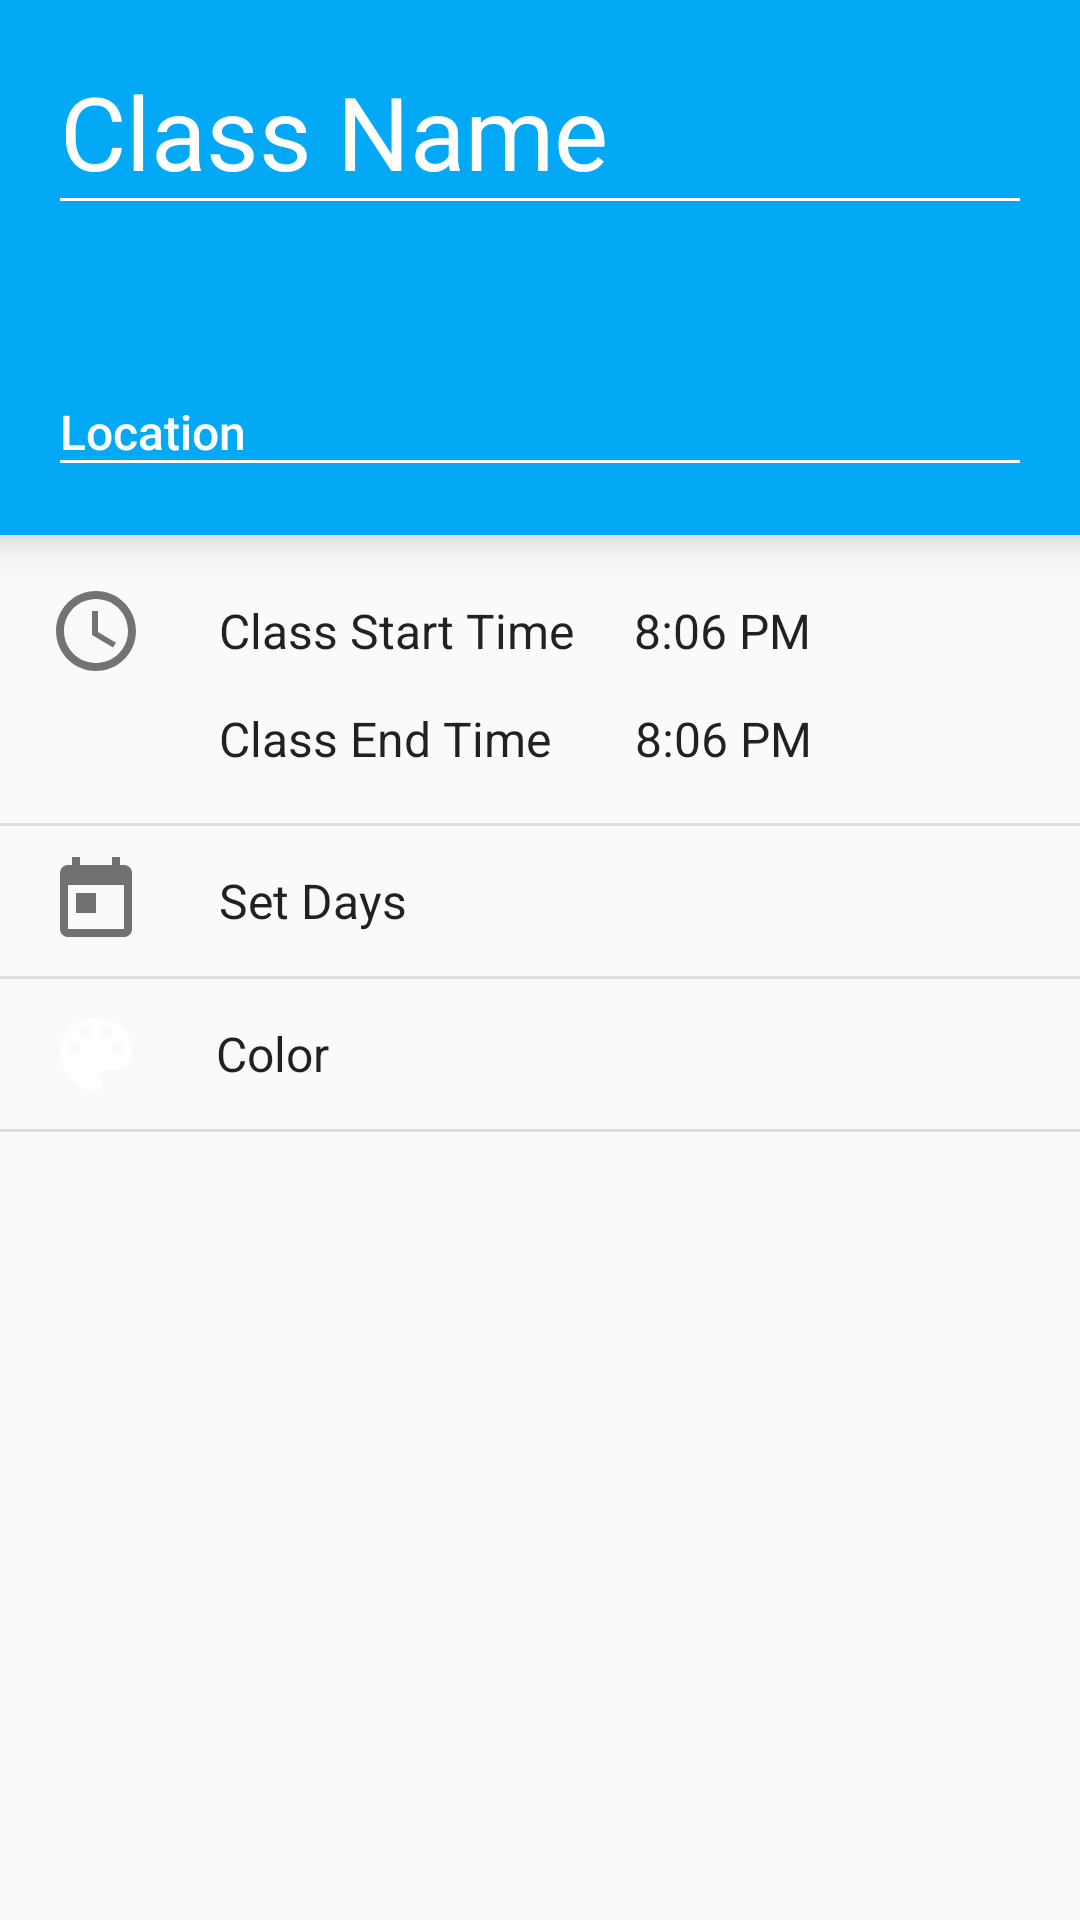

Icon bounding boxes for this 1080px x 1920px phone screenshot, format (x1, y1, x2, y2):
access time: (56, 591, 136, 671)
date today: (60, 857, 132, 937)
